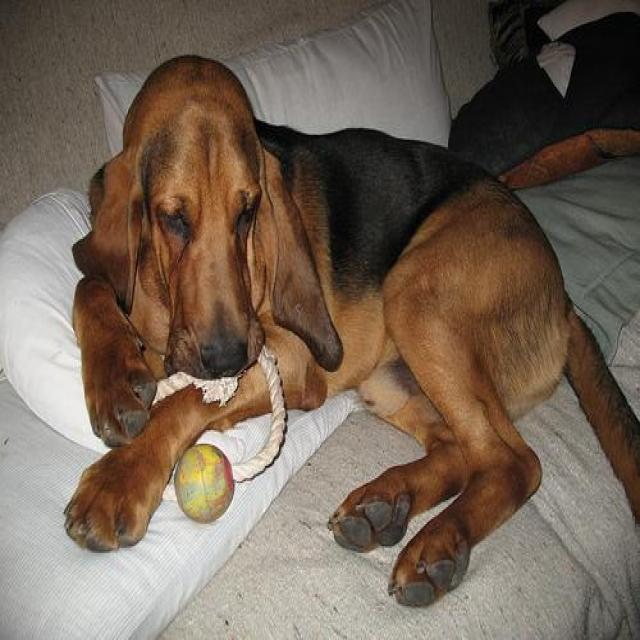bloodhound: (62, 53, 638, 609)
